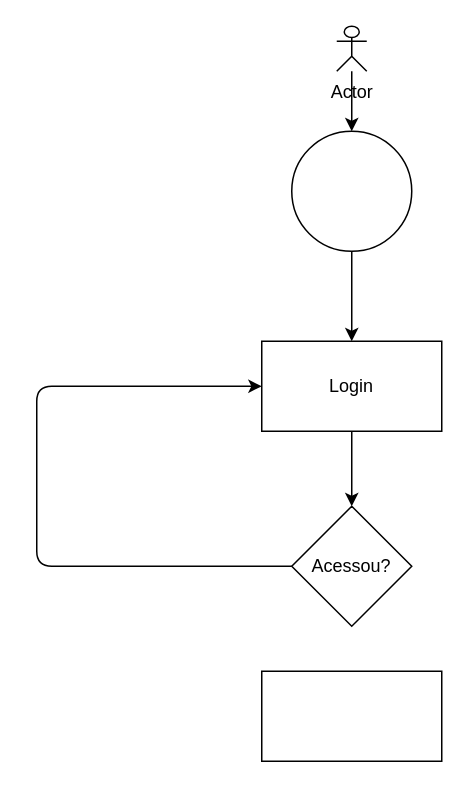
The diagram is 468 pixels wide and 788 high, and some of its shapes have lost their labels. Here are the shapes that lost their labels. From the top down, the box of each, then its label:
(290, 130, 412, 251): inicio
(260, 670, 442, 761): Dashboard
